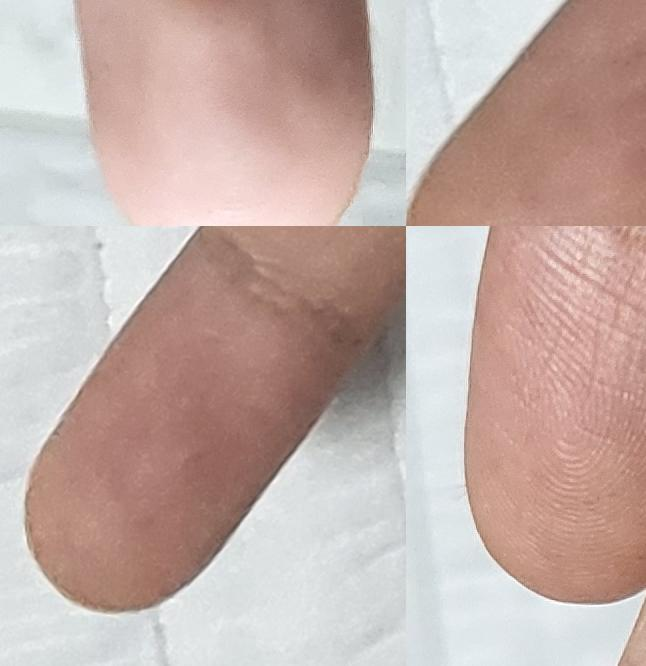Fingerprints: (24, 234, 362, 614), (463, 226, 646, 606), (75, 0, 375, 226), (406, 0, 646, 226)
